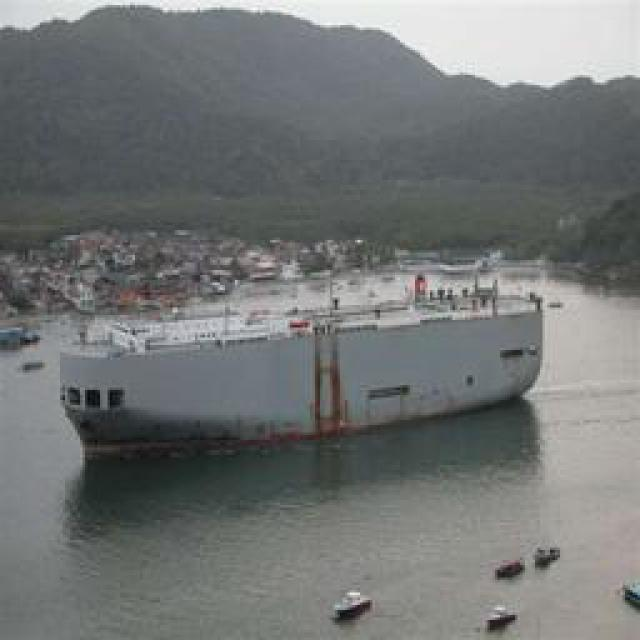Ship: (55, 263, 547, 462), (325, 581, 377, 624), (482, 546, 528, 583), (477, 606, 522, 636), (531, 539, 566, 577)
